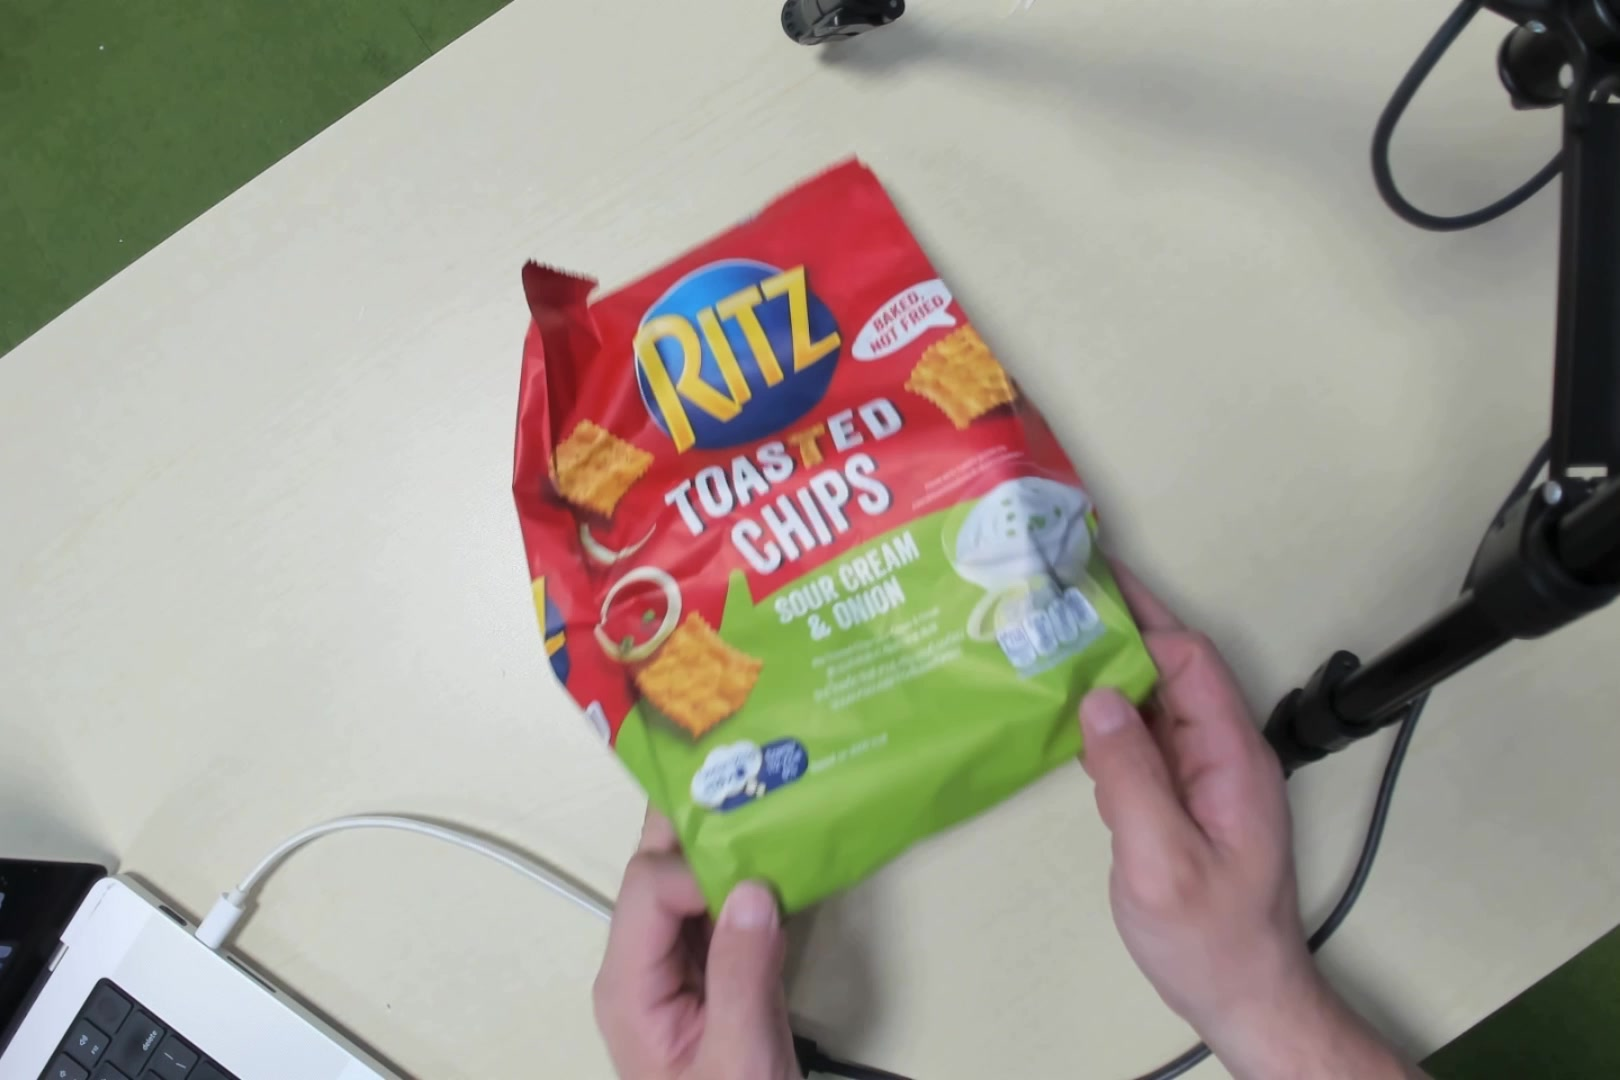BiscuitsCrackersCookies_200-299g_NonHalal_NonHealthy: (579, 204, 1052, 862)
